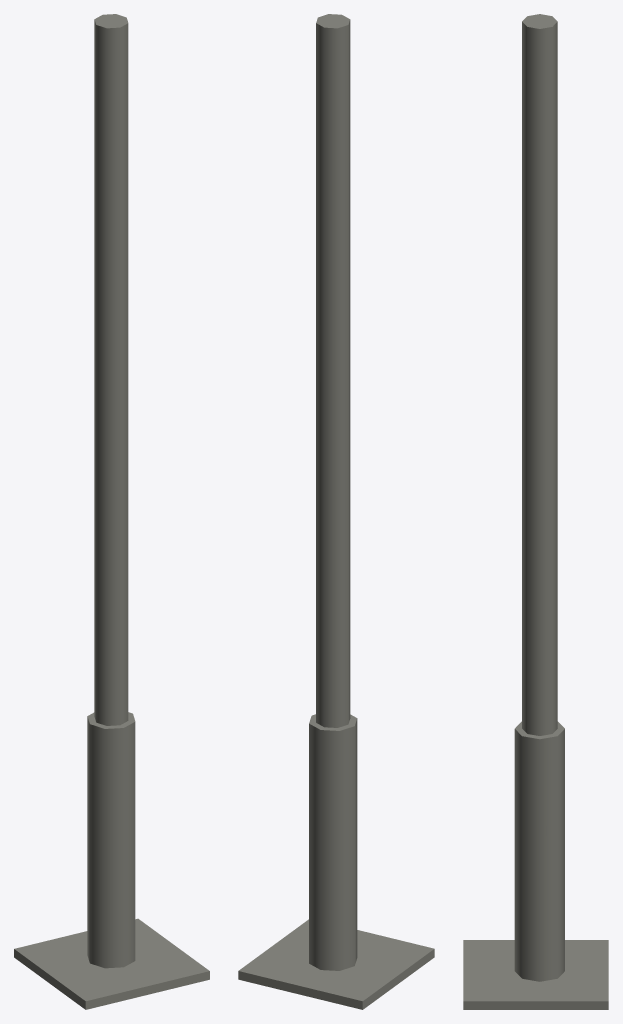
File: bld_roof_element_01.fbx
The picture shows the model from 3 angles, left to right: view 1: azimuth 30°, elevation 25°; view 2: azimuth 150°, elevation 25°; view 3: azimuth 270°, elevation 25°; orthographic projection.
Parts seen in each view (by area): view 1: bld_roof_element_01; view 2: bld_roof_element_01; view 3: bld_roof_element_01.
Boxes of the visible parts, x1=… form: bld_roof_element_01: x1=14, y1=14, x2=209, y2=1009; bld_roof_element_01: x1=238, y1=14, x2=434, y2=1009; bld_roof_element_01: x1=463, y1=14, x2=608, y2=1009.
Size of the model in its own units: 45 by 328 by 45.
